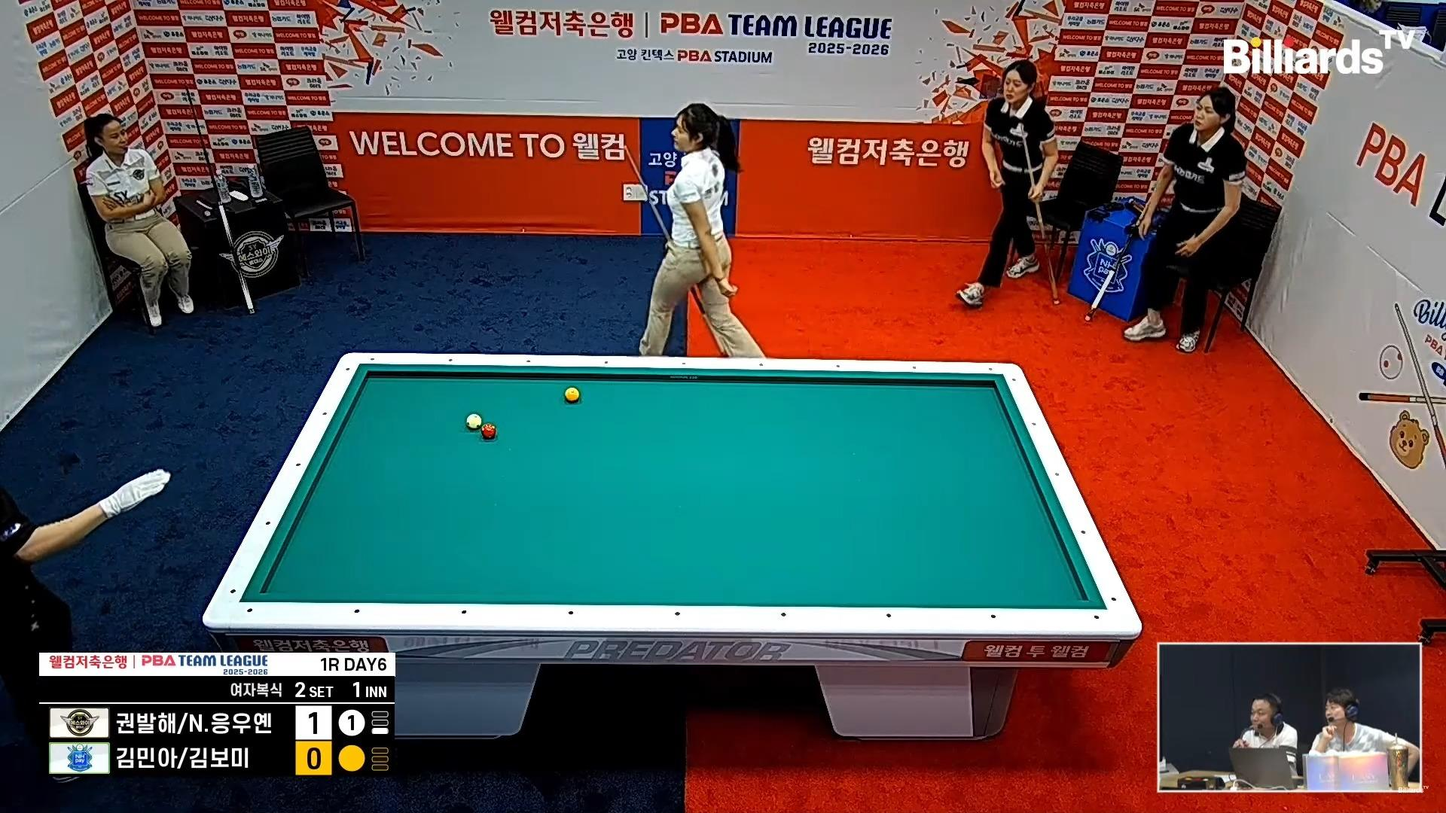billiard-ball-Red: (479, 423, 502, 442)
billiard-ball-Yellow: (563, 385, 580, 403)
billiard-ball-white: (465, 412, 482, 431)
